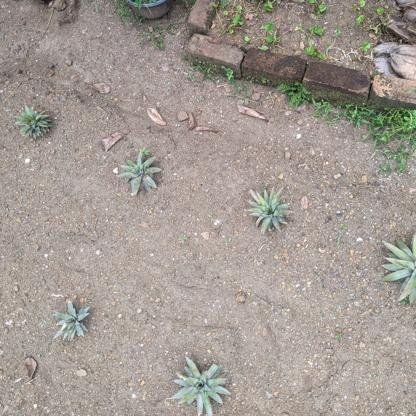pineapple: (168, 354, 232, 416), (244, 185, 296, 237), (380, 234, 416, 309), (117, 148, 164, 197), (54, 298, 95, 345), (12, 102, 56, 145)
